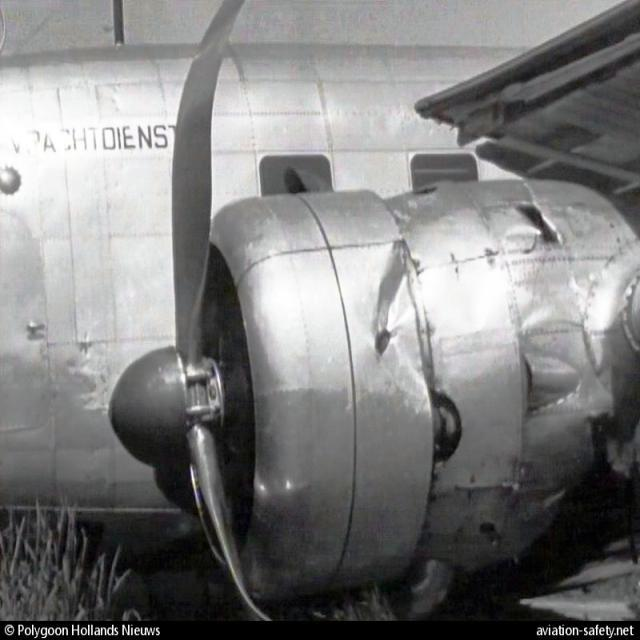dent: (365, 263, 420, 358)
